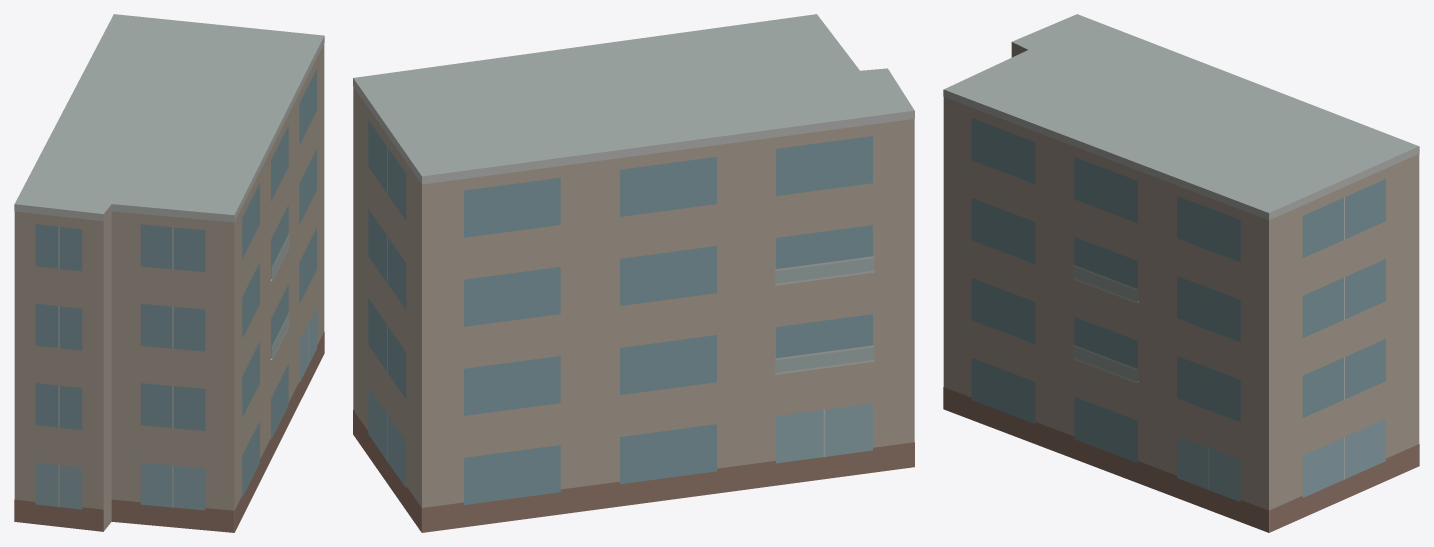
The model's file is survey-upis-32911867.glb.
3 renders of one model, left to right at view 1: azimuth 30°, elevation 25°; view 2: azimuth 150°, elevation 25°; view 3: azimuth 270°, elevation 25°, orthographic. The views are drawn at different scales.
Parts seen in each view (by area): view 1: survey-upis-32911867.tmp; view 2: survey-upis-32911867.tmp; view 3: survey-upis-32911867.tmp.
Boxes of the visible parts, x1,y1,x2,y2 form: survey-upis-32911867.tmp: (14, 14, 324, 532); survey-upis-32911867.tmp: (353, 14, 914, 532); survey-upis-32911867.tmp: (943, 14, 1419, 532).
Size of the model in its own units: 14.27 by 10.68 by 14.41.
